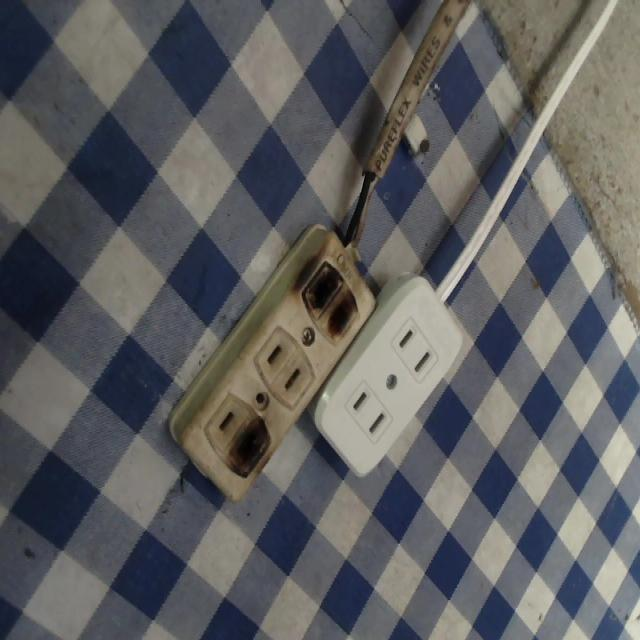-: (298, 253, 361, 347), (218, 410, 269, 474)
